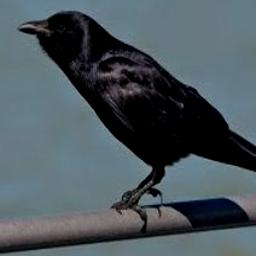Crow: (17, 11, 256, 219)
